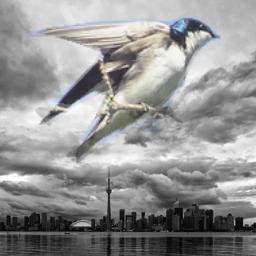Swallow: (26, 14, 221, 163)
